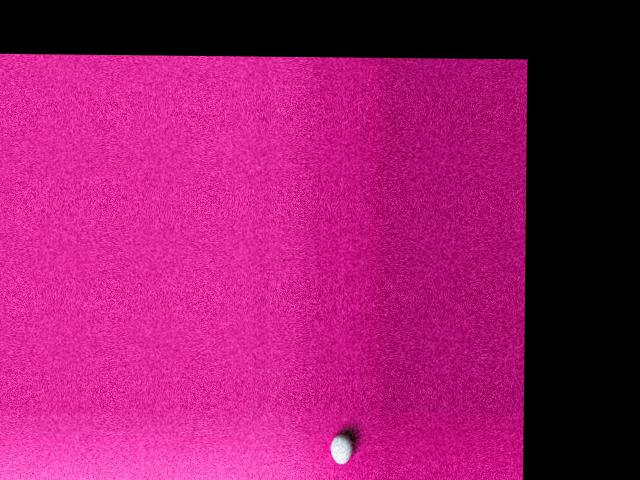egg: (329, 434, 352, 464)
